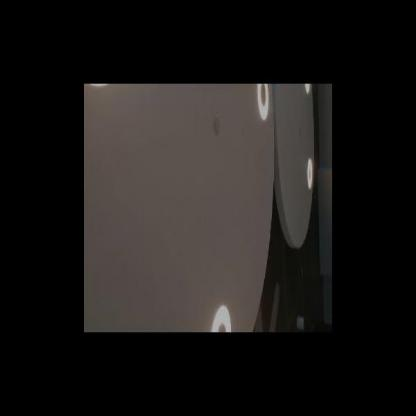light_on: (209, 295, 232, 332), (255, 84, 270, 124), (304, 151, 313, 193), (89, 84, 112, 90), (302, 84, 312, 96)
